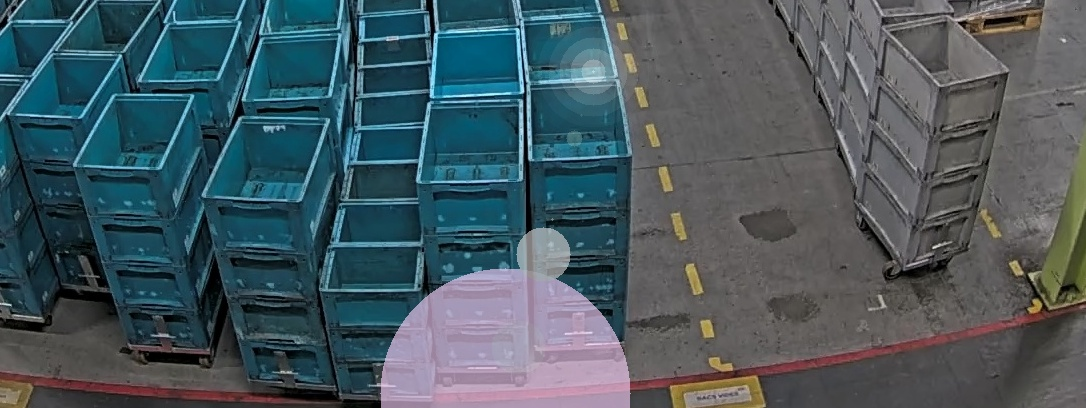4G: (852, 14, 1010, 274)
B4: (71, 93, 226, 354), (198, 115, 342, 391), (417, 99, 533, 373), (5, 52, 132, 293), (523, 80, 631, 347)
B8: (320, 202, 436, 400)
